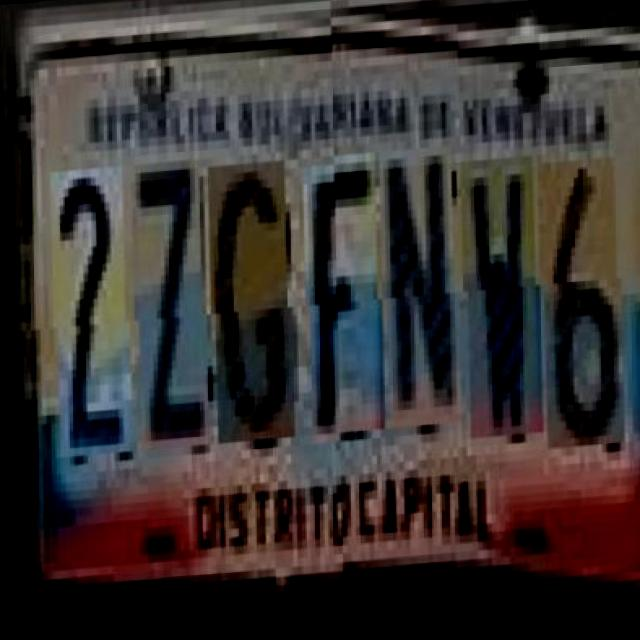2: (54, 168, 132, 459)
6: (541, 177, 622, 469)
f: (306, 168, 383, 451)
g: (212, 166, 292, 448)
n: (382, 162, 459, 445)
w: (464, 173, 542, 456)
z: (135, 162, 208, 454)
